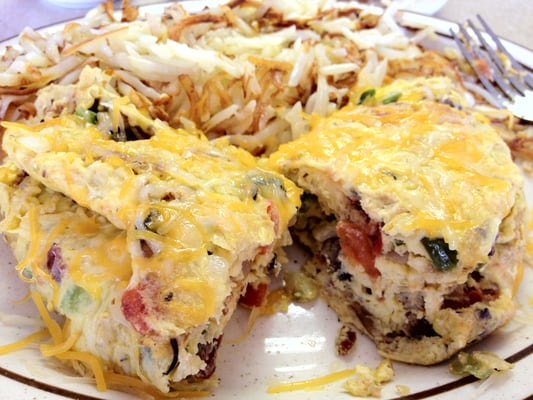soup: (277, 100, 531, 366)
